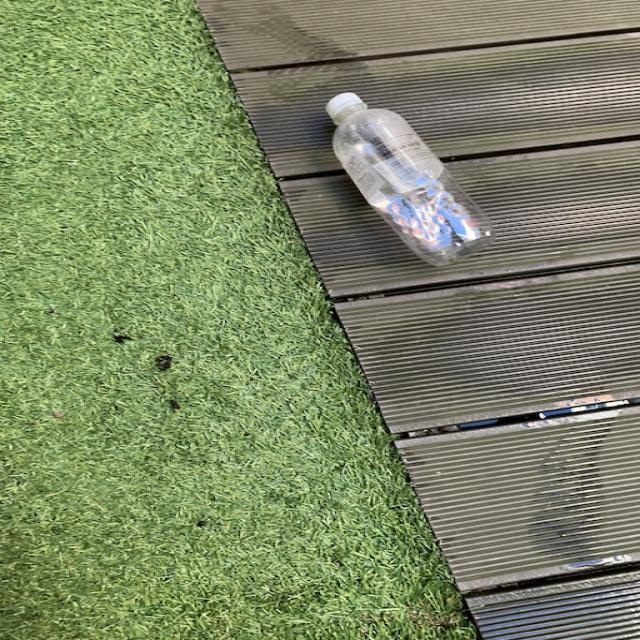Waste: (328, 93, 495, 266)
